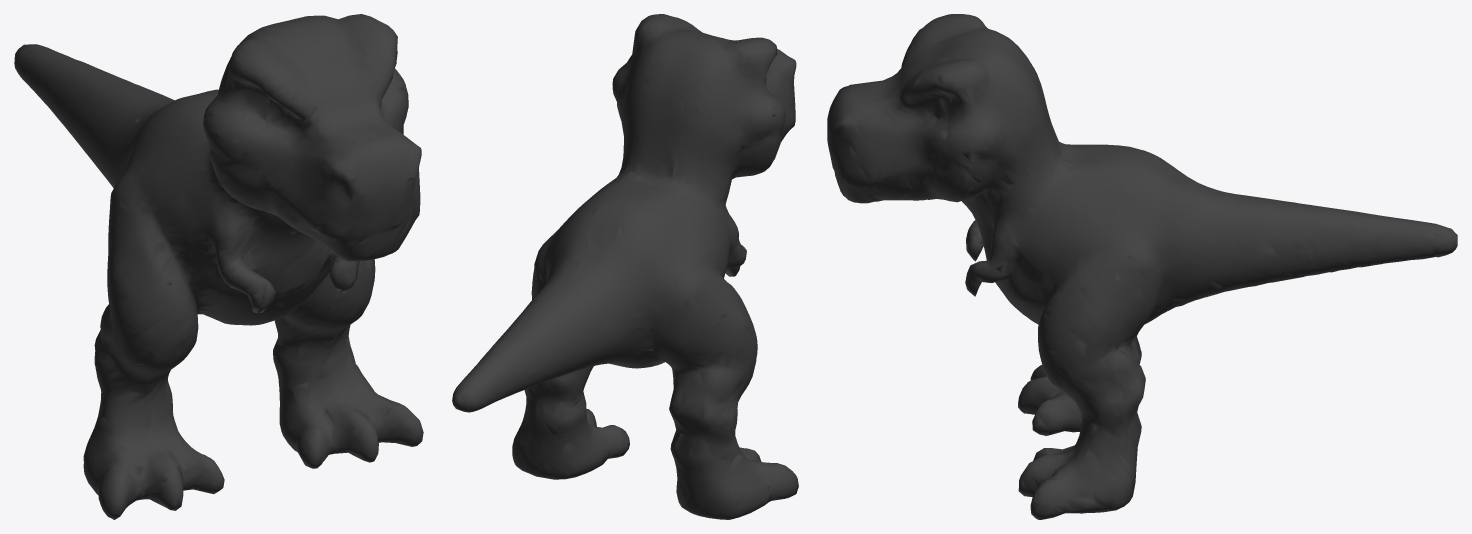
File: tyrannosaurus.glb
3 views of the same model, side by side, from view 1: azimuth 30°, elevation 25°; view 2: azimuth 150°, elevation 25°; view 3: azimuth 270°, elevation 25° (orthographic). The views are drawn at different scales.
Parts seen in each view (by area): view 1: geometry_0; view 2: geometry_0; view 3: geometry_0.
Boxes of the visible parts, box(x1,y1,x2,y2) form: geometry_0: box(14, 14, 423, 519); geometry_0: box(452, 14, 798, 519); geometry_0: box(827, 14, 1457, 519).
Size of the model in its own units: 0.4992 by 0.7312 by 1.
Materials: 1 (1 with a texture image).
